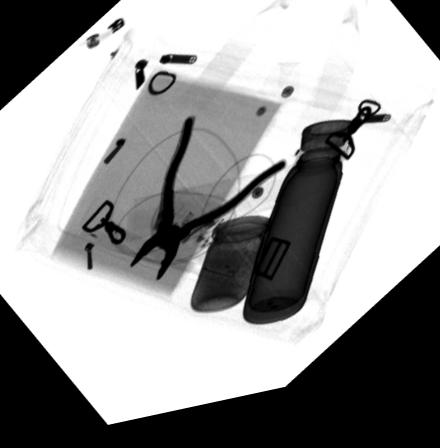Pliers: (128, 122, 287, 288)
